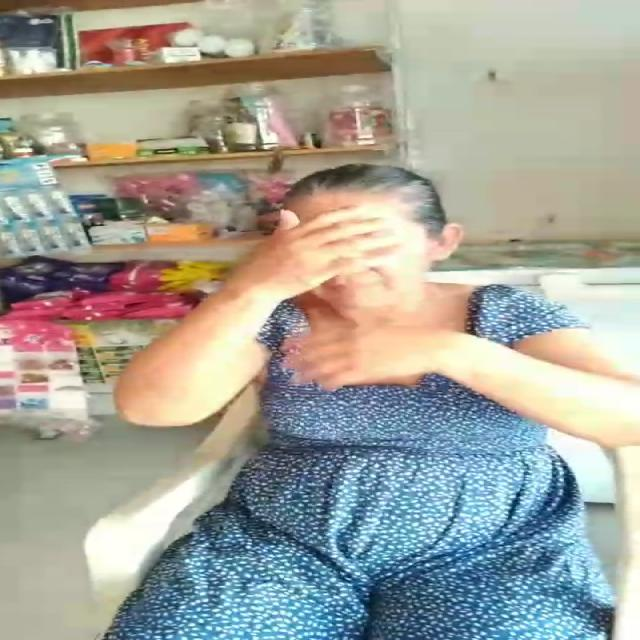7_mano_rostro: (228, 208, 404, 305)
